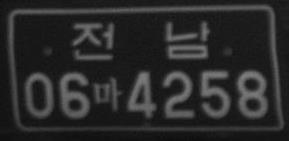0: (22, 70, 55, 119)
2: (162, 70, 196, 119)
4: (126, 69, 157, 118)
5: (199, 70, 232, 119)
6: (58, 70, 91, 120)
8: (235, 69, 269, 120)
마: (92, 76, 123, 111)
전남_D: (71, 20, 211, 61)
